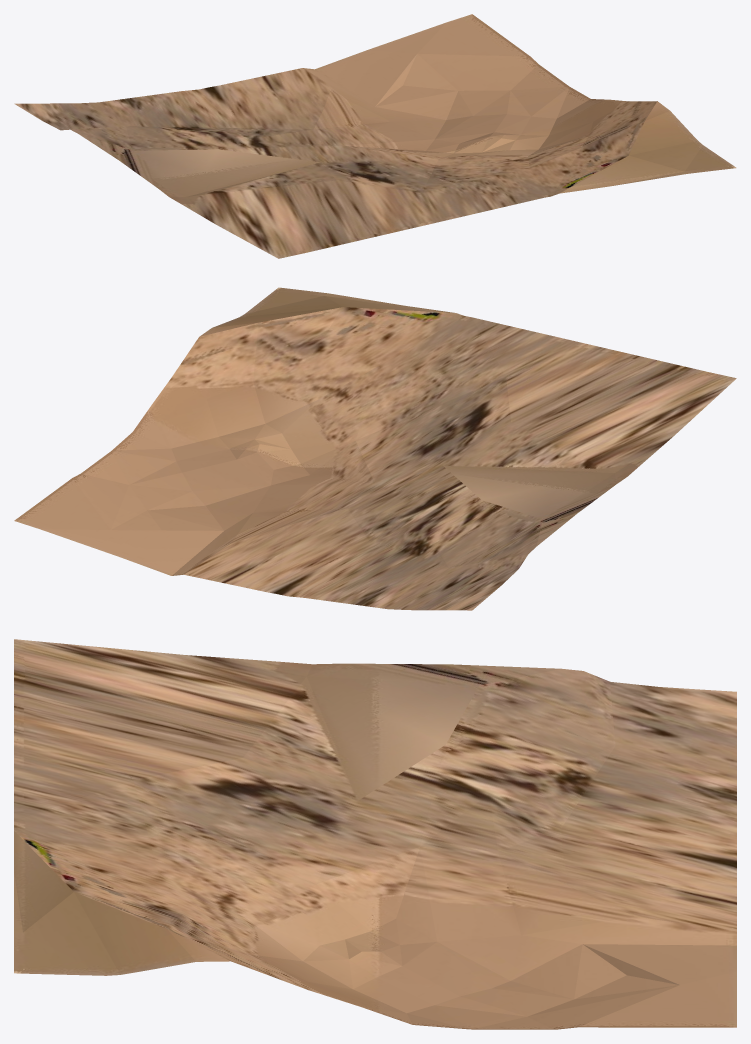
3 views of the same model, one above another, from view 1: azimuth 30°, elevation 25°; view 2: azimuth 150°, elevation 25°; view 3: azimuth 270°, elevation 25° (orthographic). The views are drawn at different scales.
Size of the model in its own units: 2.09 by 0.3467 by 2.09.
Materials: 3 (3 with a texture image).
